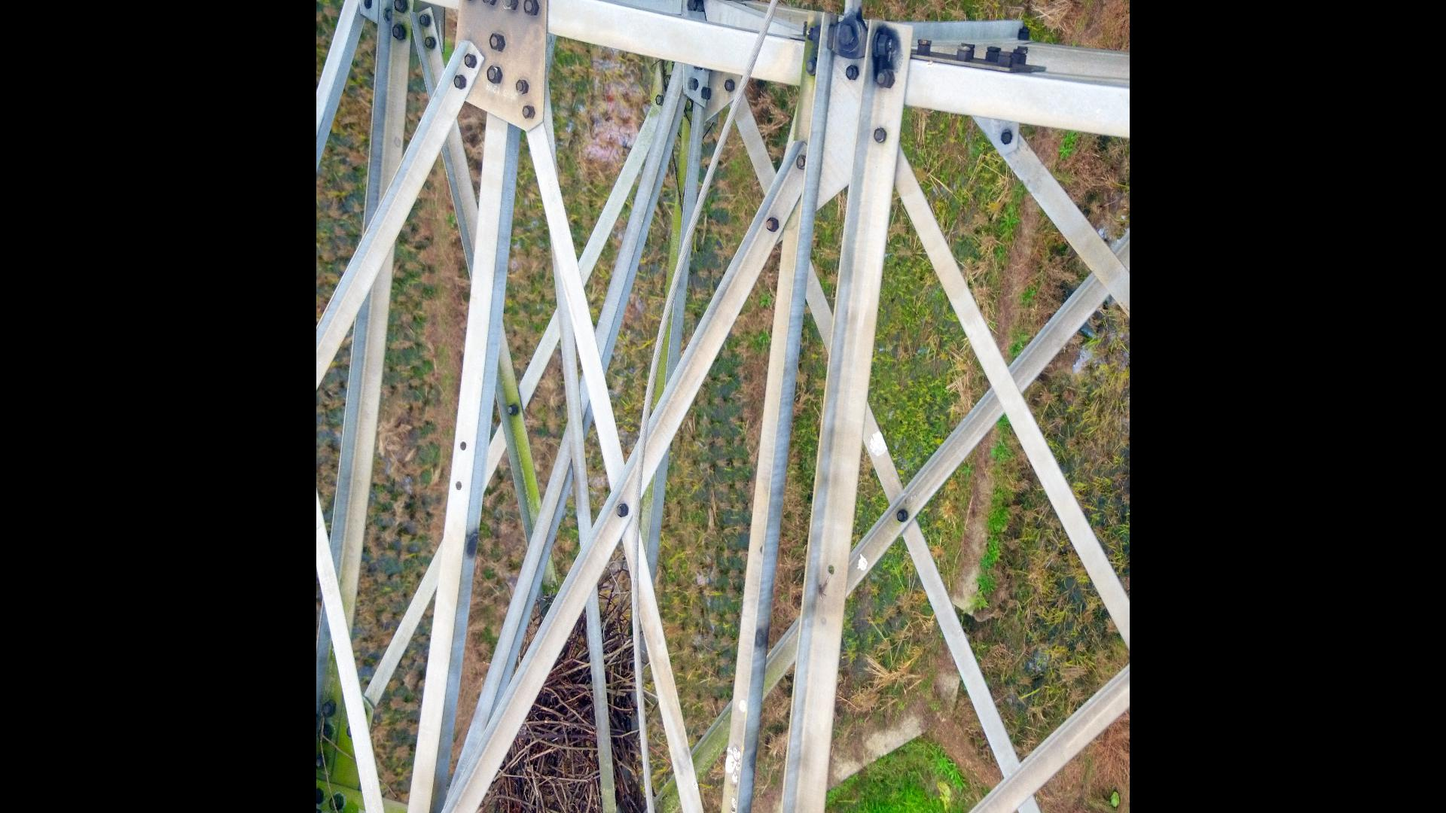nest: (485, 593, 646, 813)
